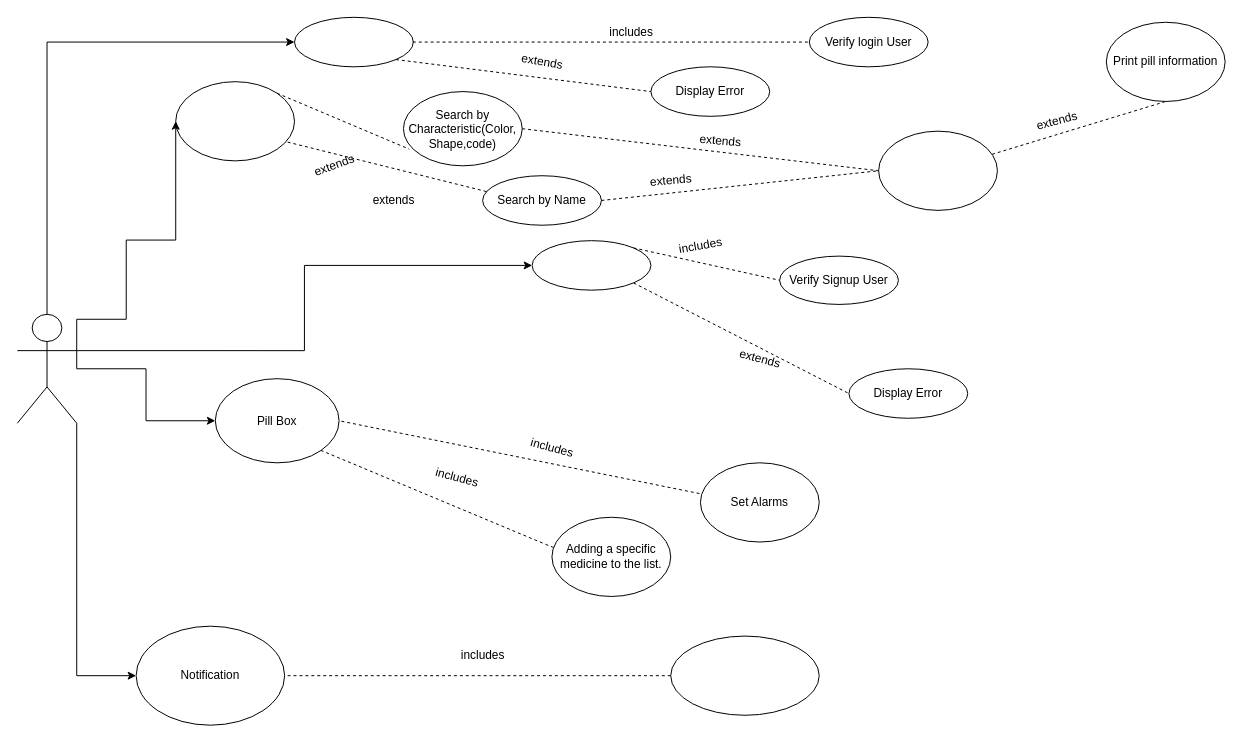
Some shapes in this 1242 by 743 pixel diagram are drawn without their labels. The centre of each missing label's shape, as x and y in pixels:
"Display Notification" goes at point (744, 675).
"List up pills" goes at point (937, 170).
"Login" goes at point (353, 41).
"Search pill" goes at point (235, 121).
"Signup" goes at point (591, 265).
"User" goes at point (46, 368).
